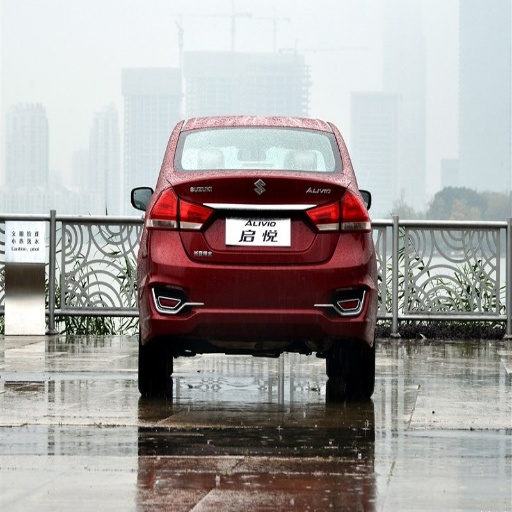back_bumper: (145, 230, 377, 333)
tailgate: (208, 172, 345, 262)
trunk: (173, 175, 273, 270)
